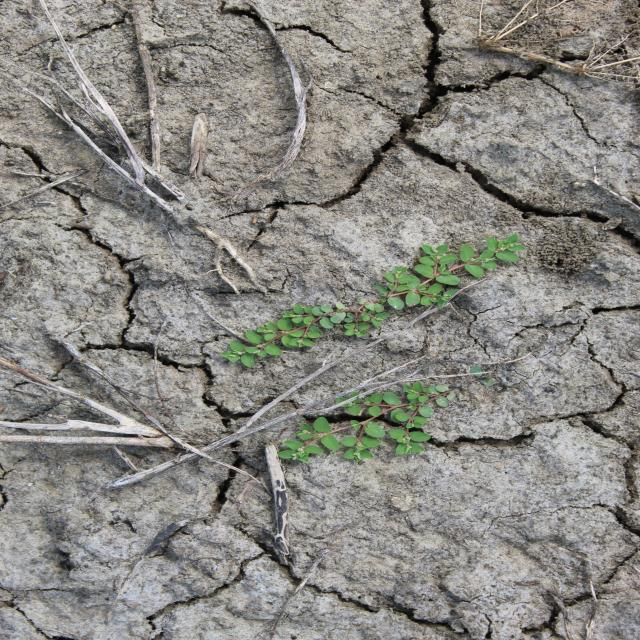SpottedSpurge: (216, 230, 530, 370), (276, 378, 458, 463)
